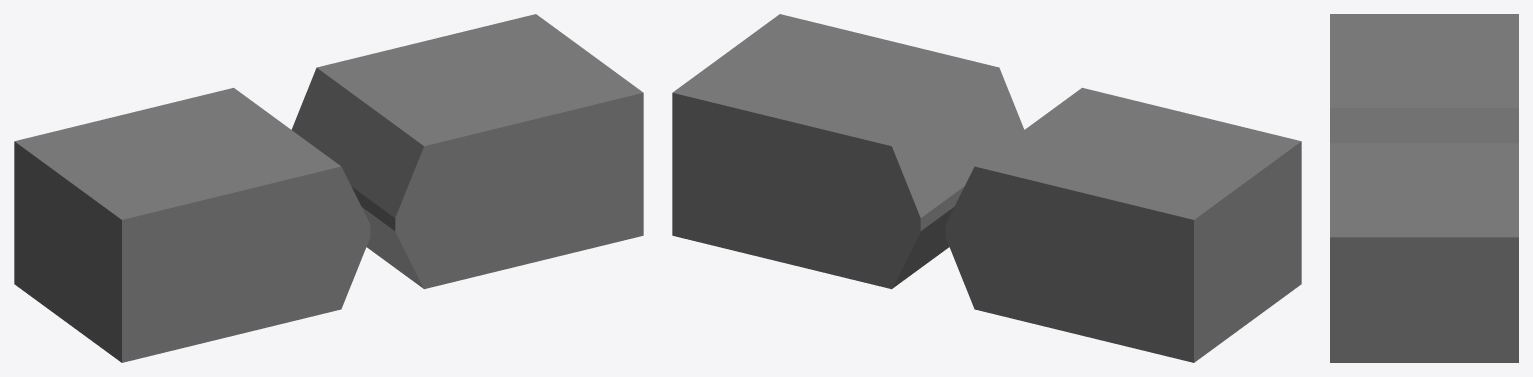
File: С25_Кромки.glb
3 renders of one model, left to right at view 1: azimuth 30°, elevation 25°; view 2: azimuth 150°, elevation 25°; view 3: azimuth 270°, elevation 25°, orthographic. The views are drawn at different scales.
Parts seen in each view (by area): view 1: node_id3; view 2: node_id3; view 3: node_id3.
Boxes of the visible parts, x1=… form: node_id3: x1=14, y1=14, x2=643, y2=362; node_id3: x1=672, y1=14, x2=1301, y2=362; node_id3: x1=1330, y1=14, x2=1518, y2=362.
Size of the model in its own units: 0.512 by 0.1341 by 0.1829.
1 material, 1 textured.
